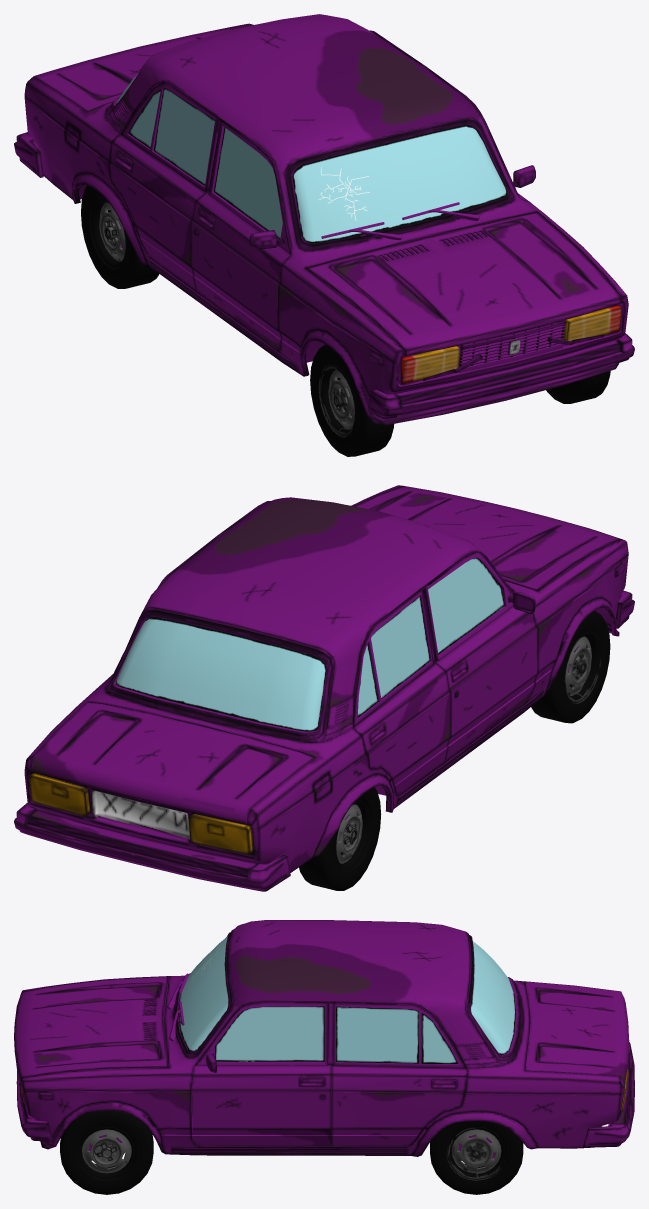
The model's file is car2107.fbx.
The picture shows the model from 3 angles, top to bottom: view 1: azimuth 30°, elevation 25°; view 2: azimuth 150°, elevation 25°; view 3: azimuth 270°, elevation 25°; orthographic projection. The views are drawn at different scales.
Parts seen in each view (by area): view 1: Cylinder.042, Cylinder.001, Cylinder.005, Cylinder.004, Cylinder.003; view 2: Cylinder.042, Cylinder.001, Cylinder.005, Cylinder.004; view 3: Cylinder.042, Cylinder.001, Cylinder.003, Cylinder.006.
Part boxes in pixels (x1,y1,x2,y2): Cylinder.042: (14,14,634,425); Cylinder.001: (116,73,506,243); Cylinder.005: (310,344,394,456); Cylinder.004: (81,185,159,288); Cylinder.003: (546,371,610,403); Cylinder.042: (14,485,634,891); Cylinder.001: (116,557,504,731); Cylinder.005: (531,611,610,723); Cylinder.004: (299,787,381,890); Cylinder.042: (14,920,634,1163); Cylinder.001: (178,936,515,1063); Cylinder.003: (60,1110,153,1194); Cylinder.006: (430,1121,523,1194).
Bounding box in the file's own units: 294 × 240 × 688.
